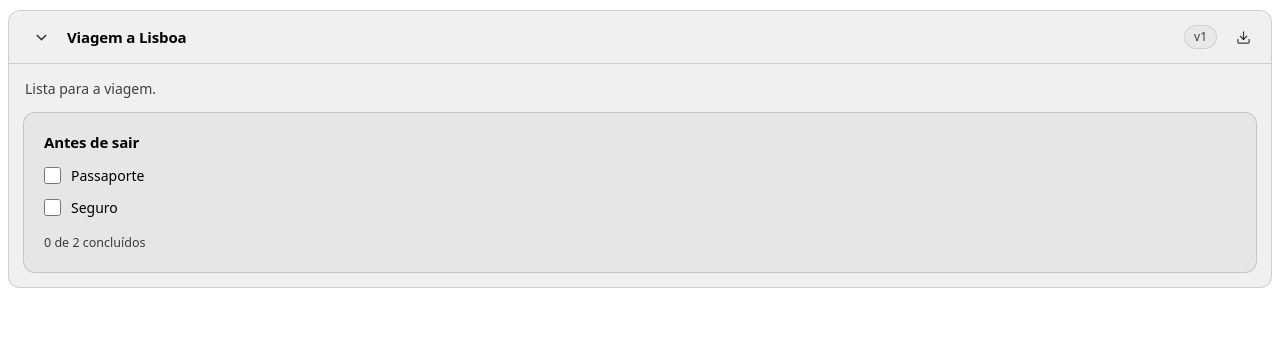
Test: InlineCanvas › discards only after the write under way, and says so when the server keeps the draft
Expected: the heading "Viagem a Lisboa" is shown, [67,27,186,47]
Click the checkbox labelled "Passaporte" at (52,176), box [44,167,61,184]
Wait 800 ms
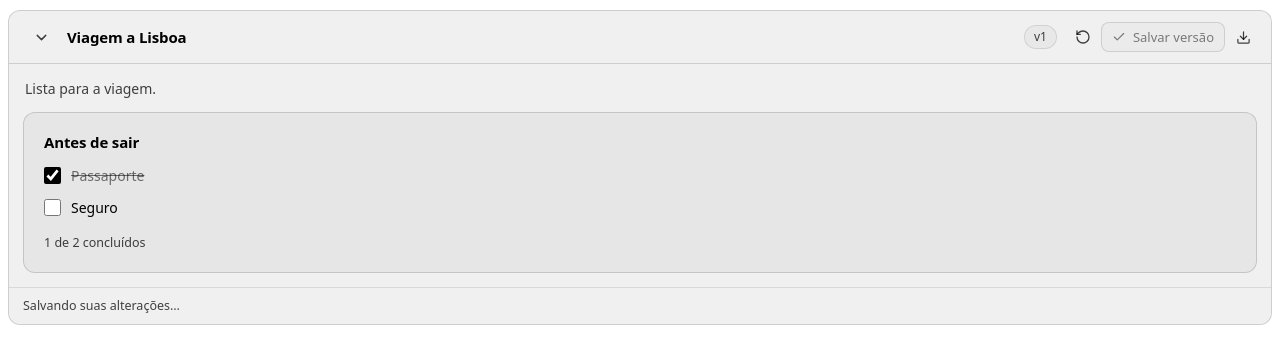
Click the button named "Descartar minhas alterações" at (1083,37), box [1067,21,1099,53]
Wait 50 ms
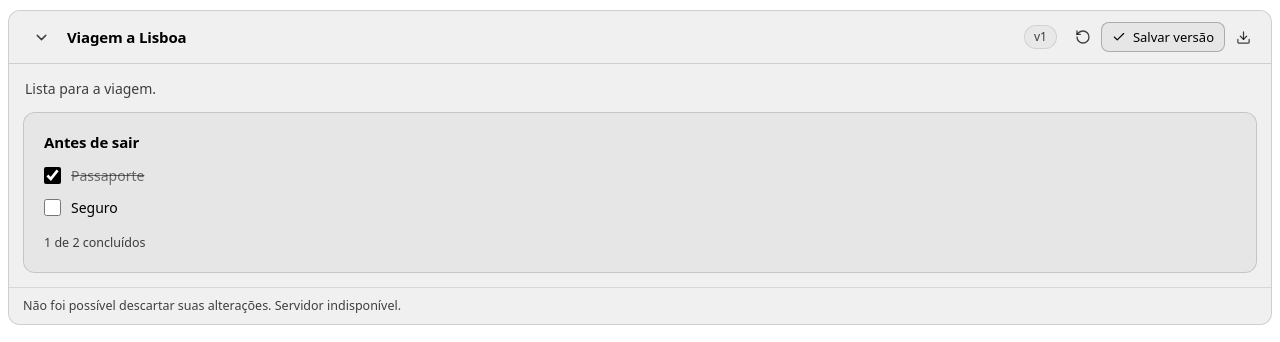
Now the checkbox labelled "Passaporte" is checked, box [44,167,61,184]
Now the text "Não foi possível descartar suas alterações. Servidor indisponível." is shown, box [23,296,401,316]
